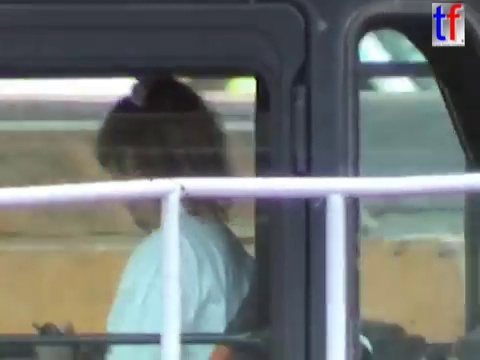truck: (1, 1, 480, 360)
worker: (24, 67, 267, 360)
